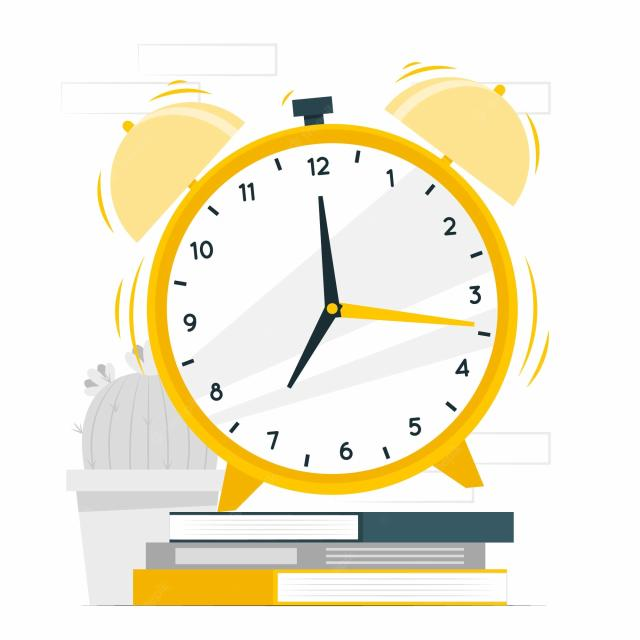clock: (134, 130, 560, 506)
